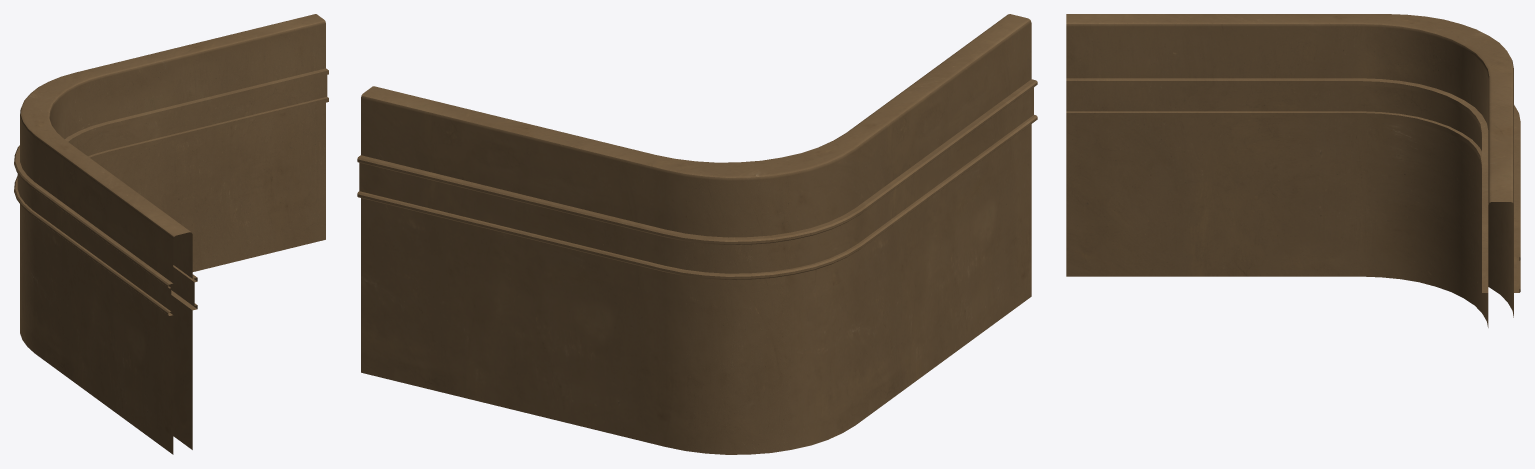
The model's file is SM_Building04_Roof2R.fbx.
3 renders of one model, left to right at view 1: azimuth 30°, elevation 25°; view 2: azimuth 150°, elevation 25°; view 3: azimuth 270°, elevation 25°, orthographic. The views are drawn at different scales.
Visible parts, largest first — view 1: SM_Building04_Roof2R_LOD0; view 2: SM_Building04_Roof2R_LOD0; view 3: SM_Building04_Roof2R_LOD0.
Part boxes in pixels (x1,y1,x2,y2): SM_Building04_Roof2R_LOD0: (14, 14, 328, 454); SM_Building04_Roof2R_LOD0: (357, 14, 1037, 454); SM_Building04_Roof2R_LOD0: (1066, 14, 1520, 327).
Size of the model in its own units: 355 by 355 by 218.
Materials: 1 (1 with a texture image).
